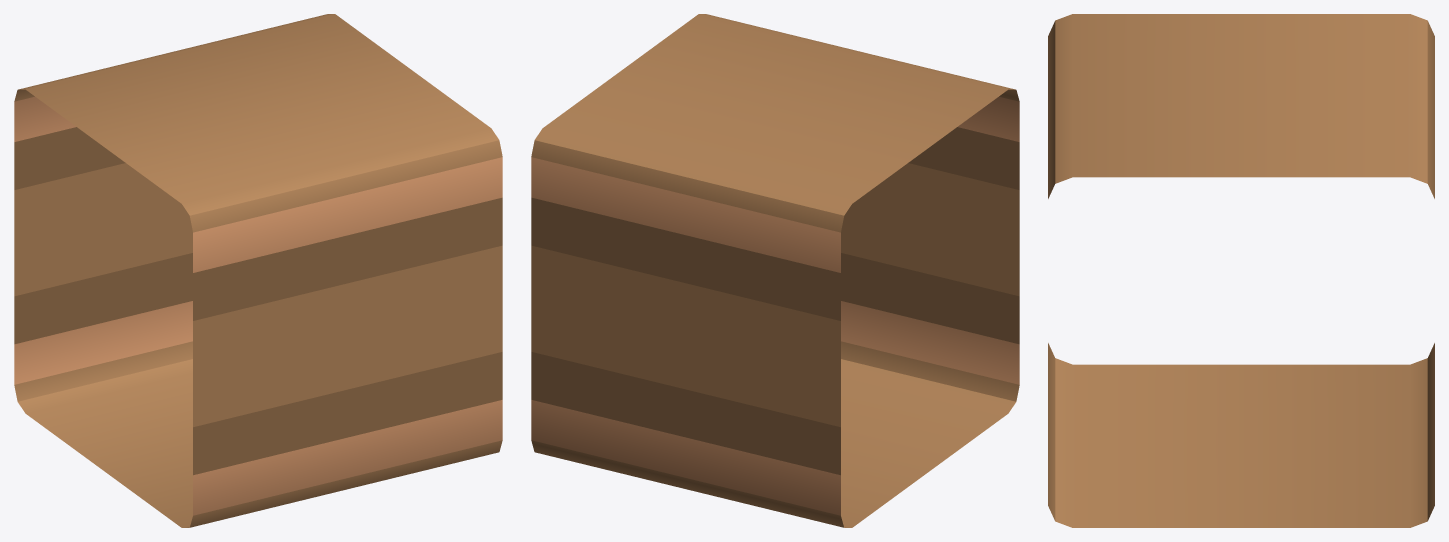
Rendered from quaternius-platformer-game-cube-dirt-1-x-1-center.glb.
The picture shows the model from 3 angles, left to right: view 1: azimuth 30°, elevation 25°; view 2: azimuth 150°, elevation 25°; view 3: azimuth 270°, elevation 25°; orthographic projection. The views are drawn at different scales.
Visible parts, largest first — view 1: Cube_Dirt_1x1Center; view 2: Cube_Dirt_1x1Center; view 3: Cube_Dirt_1x1Center.
Boxes of the visible parts, box(x1,y1,x2,y2) form: Cube_Dirt_1x1Center: box(14, 14, 502, 527); Cube_Dirt_1x1Center: box(531, 14, 1019, 527); Cube_Dirt_1x1Center: box(1048, 14, 1434, 527).
Size of the model in its own units: 2 by 2 by 2.
